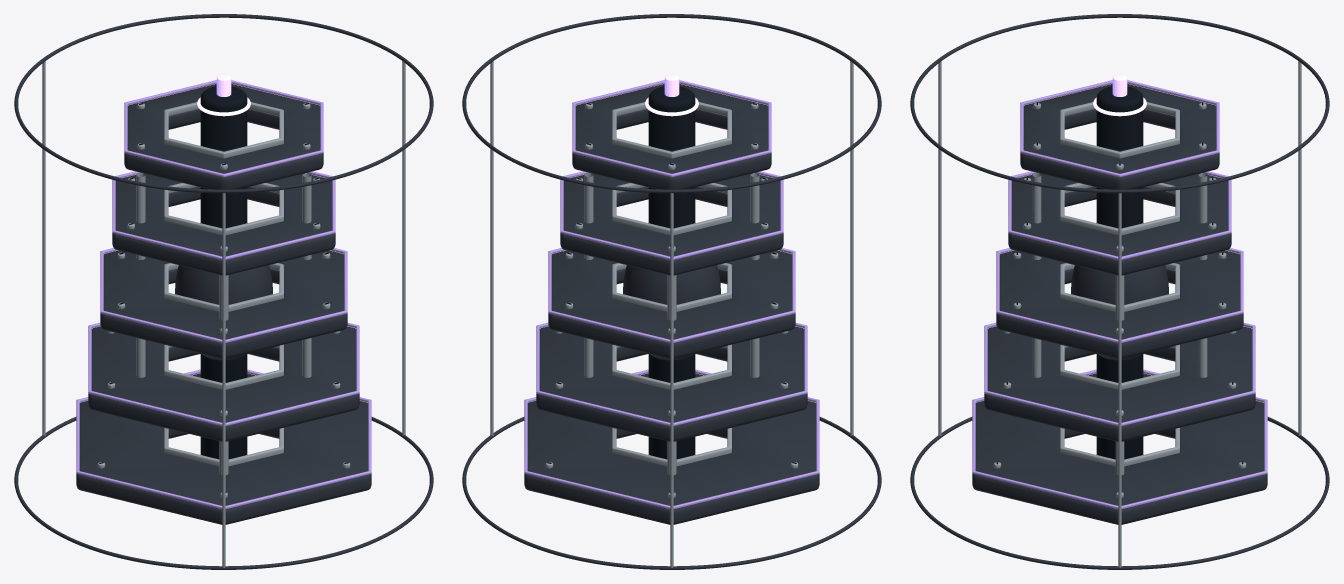
File: engine.glb
3 renders of one model, left to right at view 1: azimuth 30°, elevation 25°; view 2: azimuth 150°, elevation 25°; view 3: azimuth 270°, elevation 25°, orthographic.
Visible parts, largest first — view 1: plate_frame, plate_frame.001, plate_frame.002, plate_frame.003, plate_frame.004, pbr_static_graphite, bus_sleeve, pbr_static_steel, solid_body, pbr_wire_plate3_steel, pbr_wire_plate1_steel, plate_seam (+7 smaller); view 2: plate_frame, plate_frame.001, plate_frame.002, plate_frame.003, plate_frame.004, pbr_static_graphite, bus_sleeve, pbr_static_steel, solid_body, pbr_wire_plate3_steel, pbr_wire_plate1_steel, plate_seam (+7 smaller); view 3: plate_frame, plate_frame.001, plate_frame.002, plate_frame.003, plate_frame.004, pbr_static_graphite, bus_sleeve, pbr_static_steel, solid_body, pbr_wire_plate3_steel, pbr_wire_plate1_steel, plate_seam (+7 smaller).
Boxes of the visible parts, box(x1,y1,x2,y2) form: plate_frame: box(76, 373, 371, 524); plate_frame.001: box(88, 326, 359, 441); plate_frame.002: box(100, 250, 347, 358); plate_frame.003: box(112, 173, 335, 275); plate_frame.004: box(124, 84, 323, 189); pbr_static_graphite: box(14, 14, 433, 569); bus_sleeve: box(200, 86, 247, 459); pbr_static_steel: box(42, 61, 405, 567); solid_body: box(175, 265, 272, 360); pbr_wire_plate3_steel: box(127, 173, 320, 251); pbr_wire_plate1_steel: box(107, 331, 340, 415); plate_seam: box(76, 369, 371, 509); plate_frame: box(524, 373, 819, 524); plate_frame.001: box(536, 326, 807, 441); plate_frame.002: box(548, 250, 795, 358); plate_frame.003: box(560, 173, 783, 275); plate_frame.004: box(572, 84, 771, 189); pbr_static_graphite: box(462, 14, 881, 569); bus_sleeve: box(648, 86, 695, 459); pbr_static_steel: box(490, 61, 853, 567); solid_body: box(623, 265, 720, 360); pbr_wire_plate3_steel: box(575, 173, 768, 251); pbr_wire_plate1_steel: box(555, 331, 788, 415); plate_seam: box(524, 369, 819, 509); plate_frame: box(972, 373, 1267, 524); plate_frame.001: box(984, 326, 1255, 441); plate_frame.002: box(996, 250, 1243, 358); plate_frame.003: box(1008, 173, 1231, 275); plate_frame.004: box(1020, 84, 1219, 189); pbr_static_graphite: box(910, 14, 1329, 569); bus_sleeve: box(1096, 86, 1143, 459); pbr_static_steel: box(938, 61, 1301, 567); solid_body: box(1071, 265, 1168, 360); pbr_wire_plate3_steel: box(1023, 173, 1216, 251); pbr_wire_plate1_steel: box(1003, 331, 1236, 415); plate_seam: box(972, 369, 1267, 509).
Bounding box in the file's own units: 3.94 × 4.45 × 3.94.
